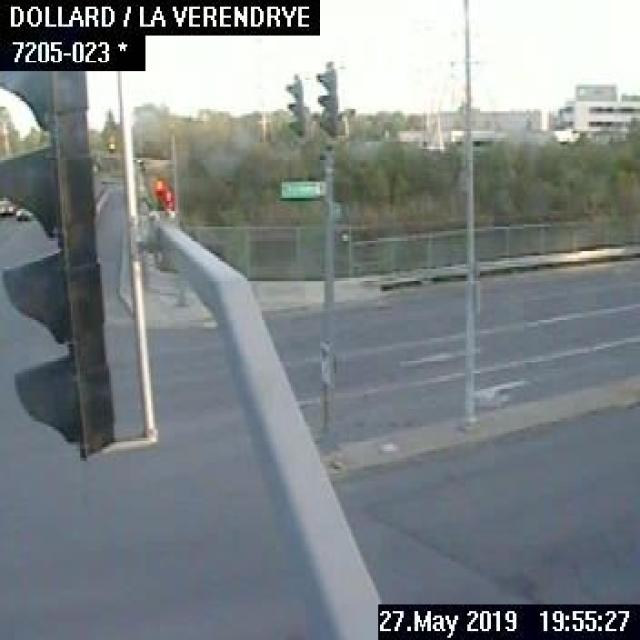vehicle: (14, 198, 35, 220), (0, 194, 16, 216)
